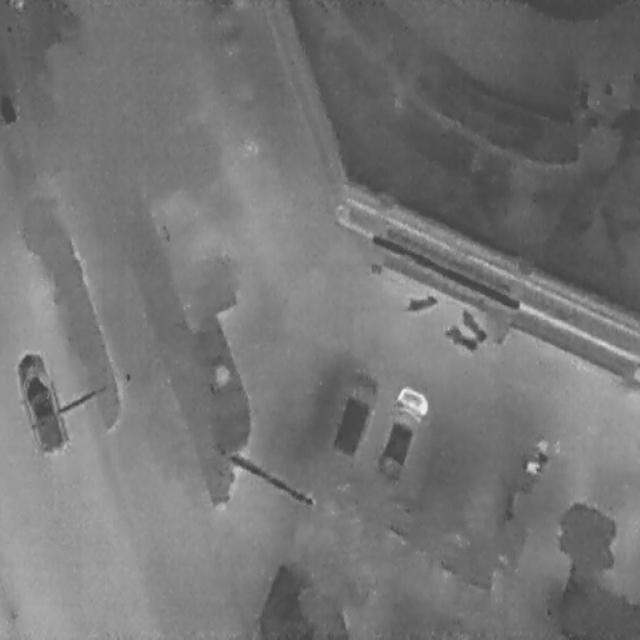Bicycle: (438, 315, 480, 357), (454, 303, 490, 347), (401, 287, 439, 315)
Car: (9, 342, 71, 460), (367, 378, 432, 488), (326, 358, 385, 462)
Person: (523, 456, 540, 476), (536, 435, 548, 455)
